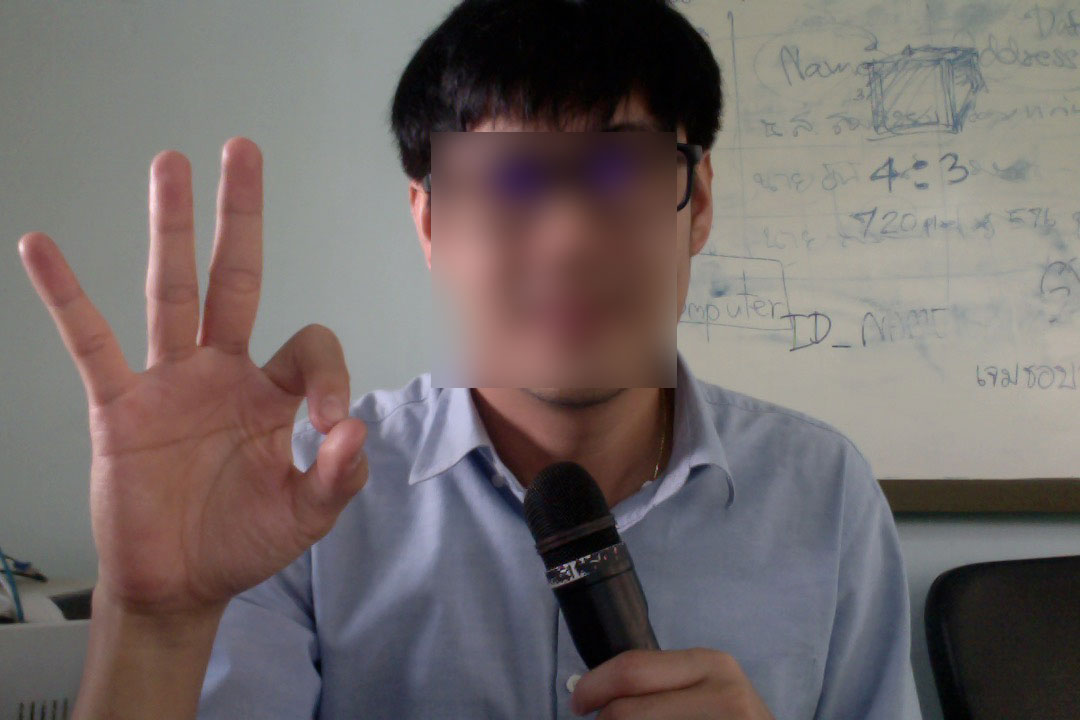for: (9, 127, 375, 620)
